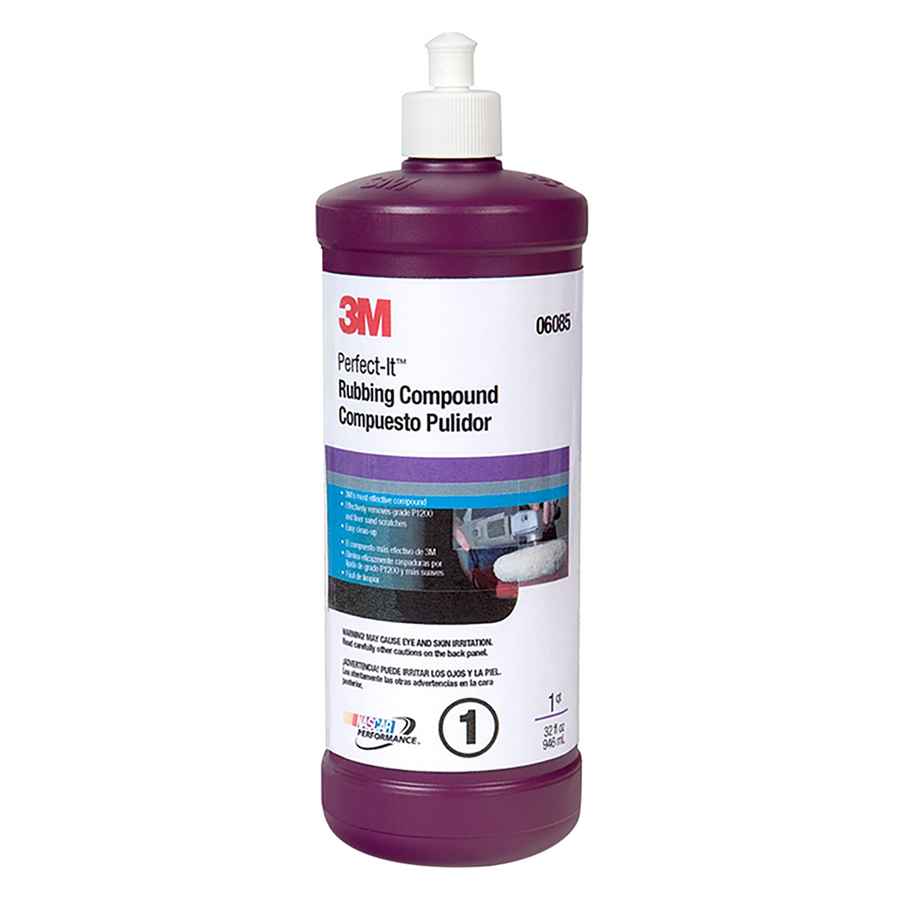3M: (334, 287, 396, 340)
